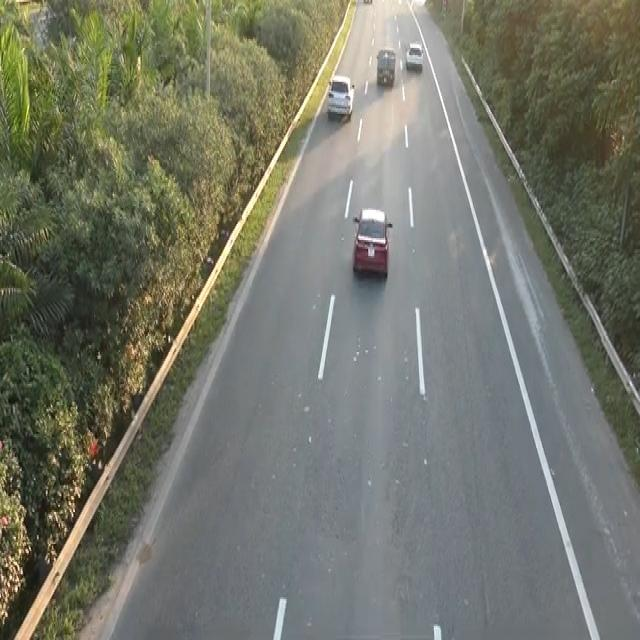bus: (349, 203, 395, 286), (326, 71, 354, 121), (404, 39, 424, 71)
minivan: (375, 46, 396, 85)
